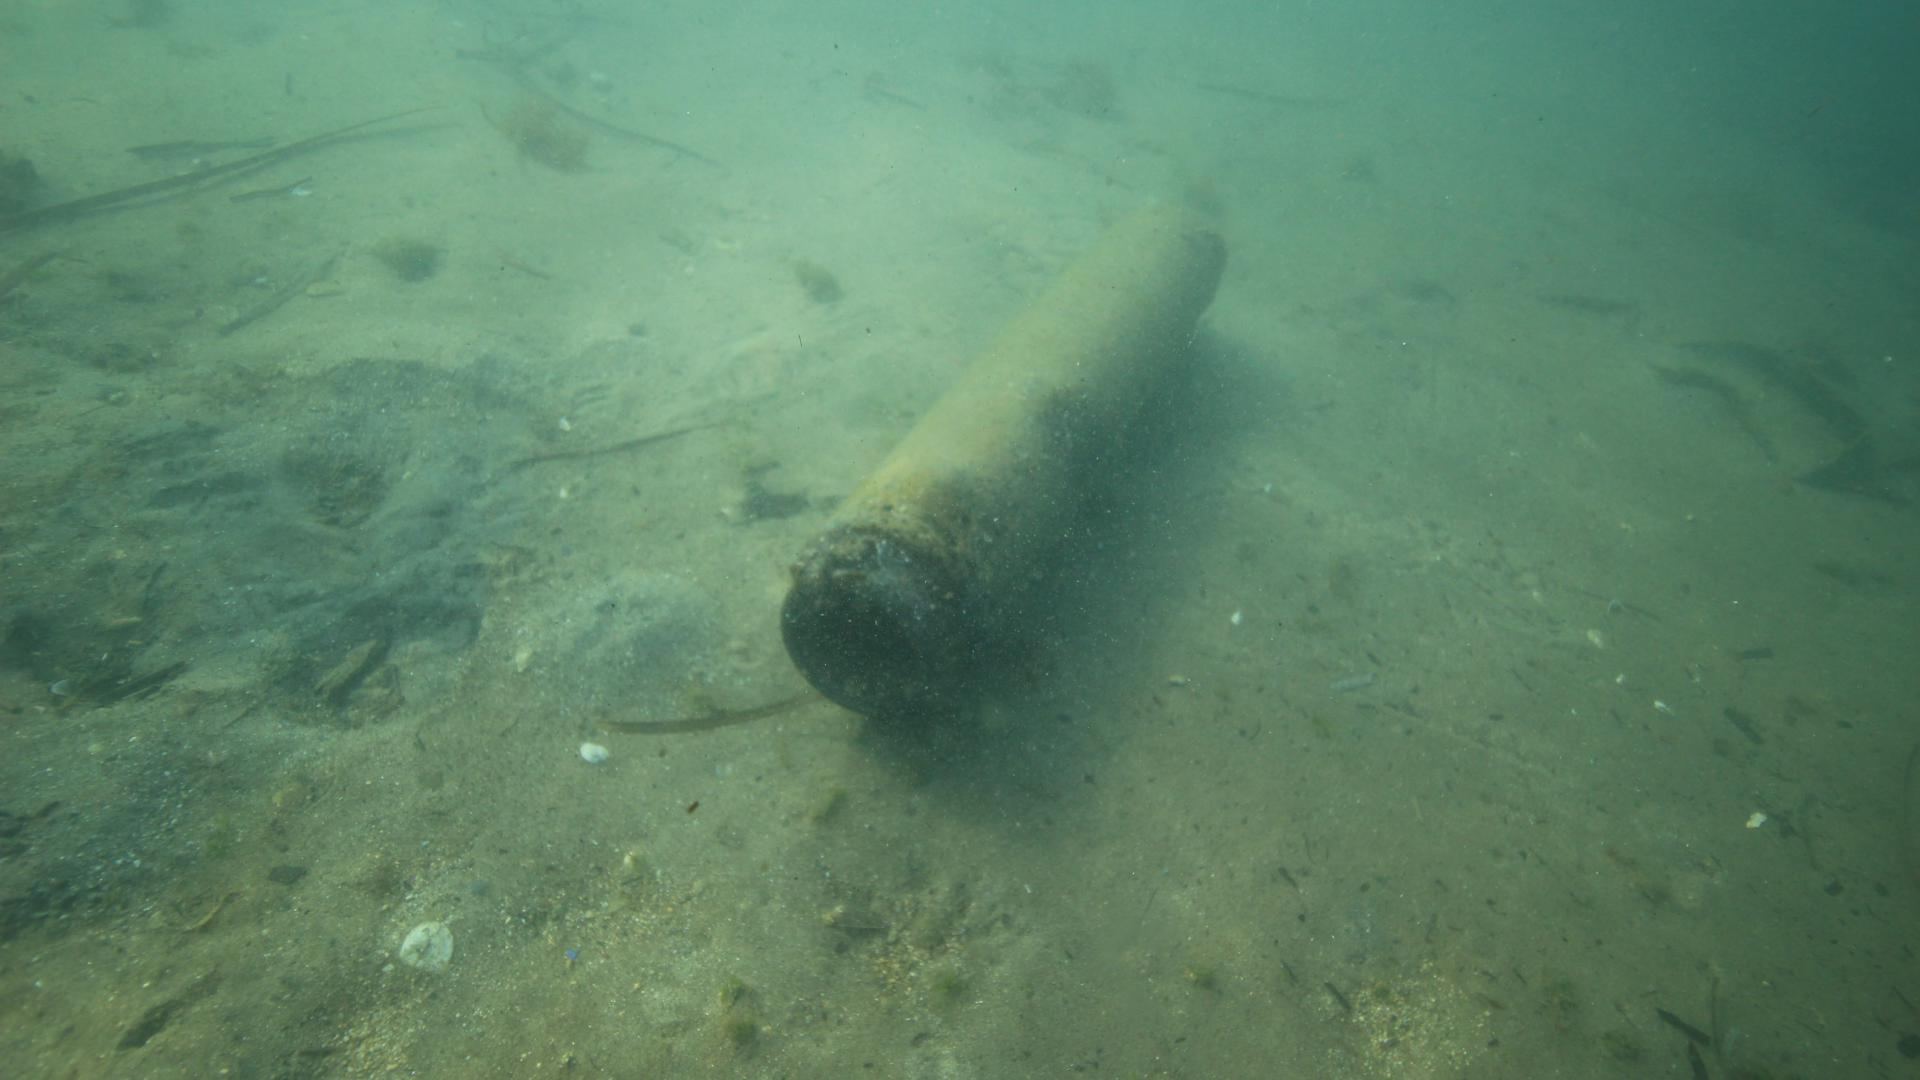eel fish trap: (777, 196, 1236, 727)
